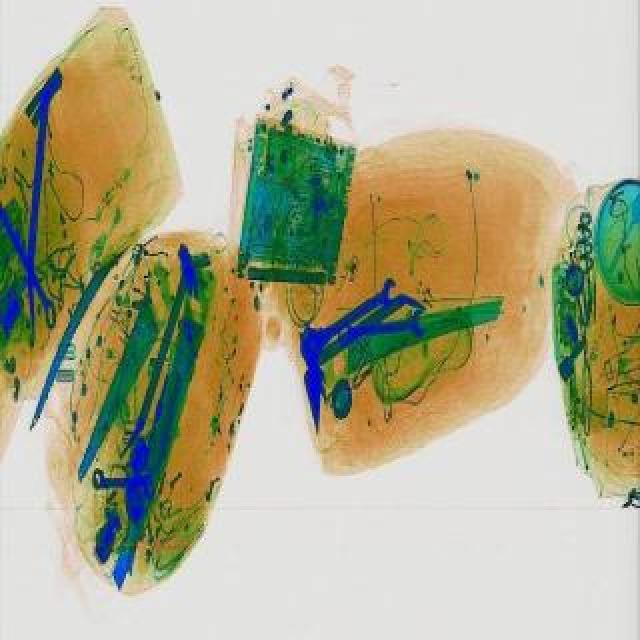scissors: (336, 312, 430, 352), (90, 466, 158, 506)
